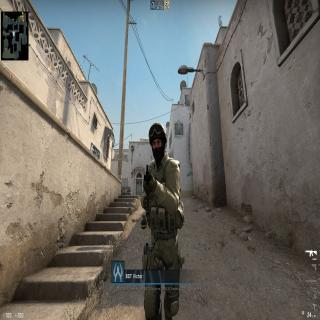CT-Head: (148, 119, 168, 163)
